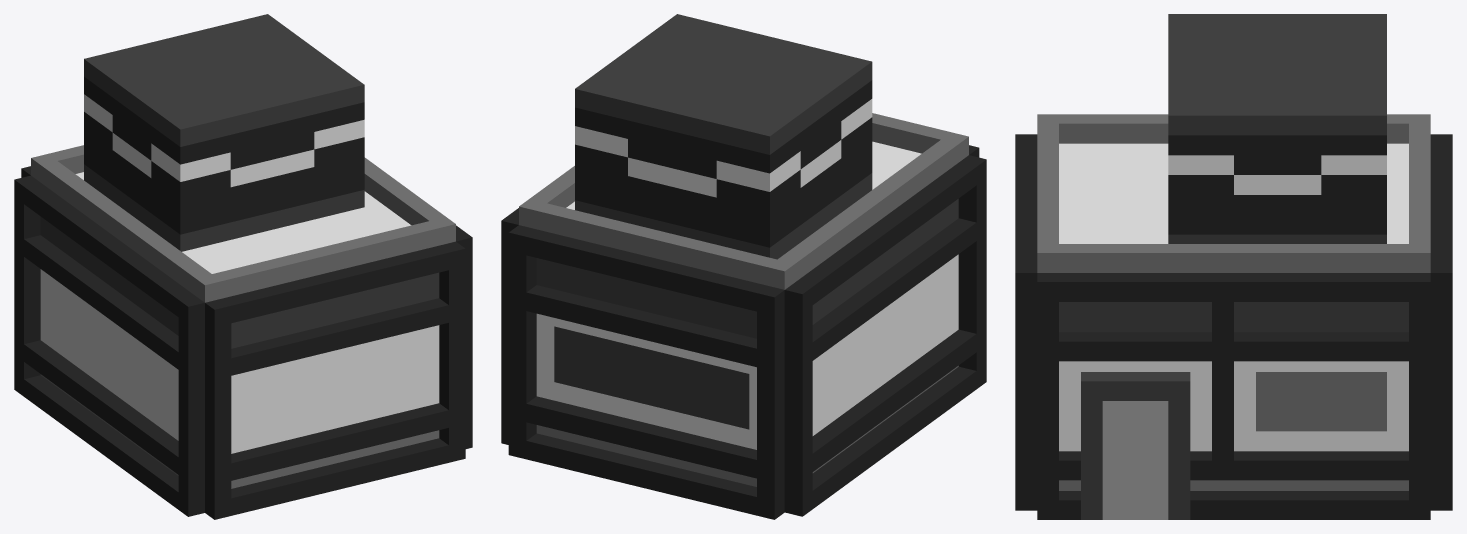
Rendered from old man's house.obj.
3 renders of one model, left to right at view 1: azimuth 30°, elevation 25°; view 2: azimuth 150°, elevation 25°; view 3: azimuth 270°, elevation 25°, orthographic. The views are drawn at different scales.
Bounding box in the file's own units: 1.7 × 1.9 × 2.
